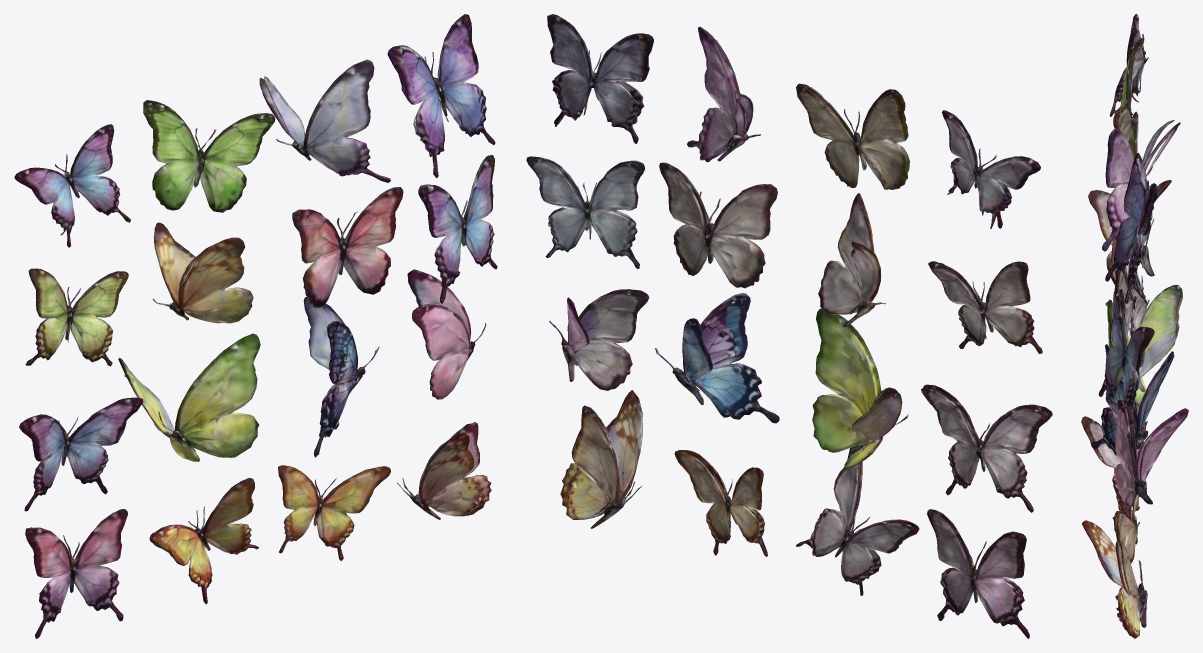
3 views of the same model, side by side, from view 1: azimuth 30°, elevation 25°; view 2: azimuth 150°, elevation 25°; view 3: azimuth 270°, elevation 25° (orthographic). The views are drawn at different scales.
Parts seen in each view (by area): view 1: Mesh 5, Mesh 7, Mesh 13, Mesh 10, Mesh 11, Mesh 8, Mesh 4, Mesh 1, Mesh 3, Mesh 16, Mesh 9, Mesh 2 (+4 smaller); view 2: Mesh 5, Mesh 10, Mesh 13, Mesh 14, Mesh 12, Mesh 16, Mesh 1, Mesh 7, Mesh 4, Mesh 15, Mesh 6, Mesh 3 (+4 smaller); view 3: Mesh 15, Mesh 13, Mesh 16, Mesh 14, Mesh 11, Mesh 5, Mesh 12, Mesh 8, Mesh 7, Mesh 2, Mesh 6, Mesh 9 (+3 smaller).
Boxes of the visible parts, x1,y1,x2,y2 form: Mesh 5: (118, 333, 260, 461); Mesh 7: (143, 100, 275, 212); Mesh 13: (387, 14, 495, 177); Mesh 10: (292, 187, 403, 307); Mesh 11: (259, 59, 390, 182); Mesh 8: (152, 222, 253, 323); Mesh 4: (25, 509, 127, 638); Mesh 1: (19, 397, 143, 511); Mesh 3: (25, 268, 128, 366); Mesh 16: (418, 155, 497, 303); Mesh 9: (278, 465, 390, 561); Mesh 2: (14, 124, 130, 247); Mesh 5: (812, 308, 908, 470); Mesh 10: (659, 162, 777, 288); Mesh 13: (547, 14, 653, 143); Mesh 14: (560, 390, 642, 528); Mesh 12: (655, 293, 779, 423); Mesh 16: (526, 156, 644, 268); Mesh 1: (921, 384, 1052, 512); Mesh 7: (796, 83, 909, 189); Mesh 4: (927, 509, 1029, 638); Mesh 15: (549, 289, 649, 390); Mesh 6: (796, 444, 919, 595); Mesh 3: (928, 261, 1042, 353); Mesh 15: (1115, 399, 1188, 506); Mesh 13: (1105, 153, 1157, 304); Mesh 16: (1098, 287, 1154, 424); Mesh 14: (1082, 520, 1147, 638); Mesh 11: (1102, 120, 1180, 251); Mesh 5: (1105, 285, 1182, 406); Mesh 12: (1091, 344, 1174, 455); Mesh 8: (1088, 180, 1171, 289); Mesh 7: (1113, 38, 1143, 141); Mesh 2: (1109, 14, 1148, 116); Mesh 6: (1081, 416, 1139, 516); Mesh 9: (1112, 494, 1140, 563).
Size of the model in its own units: 1.9 by 1.88 by 0.3866.
Materials: 16 (16 with a texture image).
